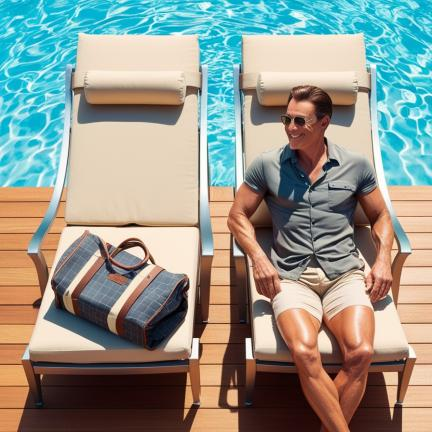guest on chair: (228, 34, 415, 432)
occupied chair: (22, 34, 213, 405)
